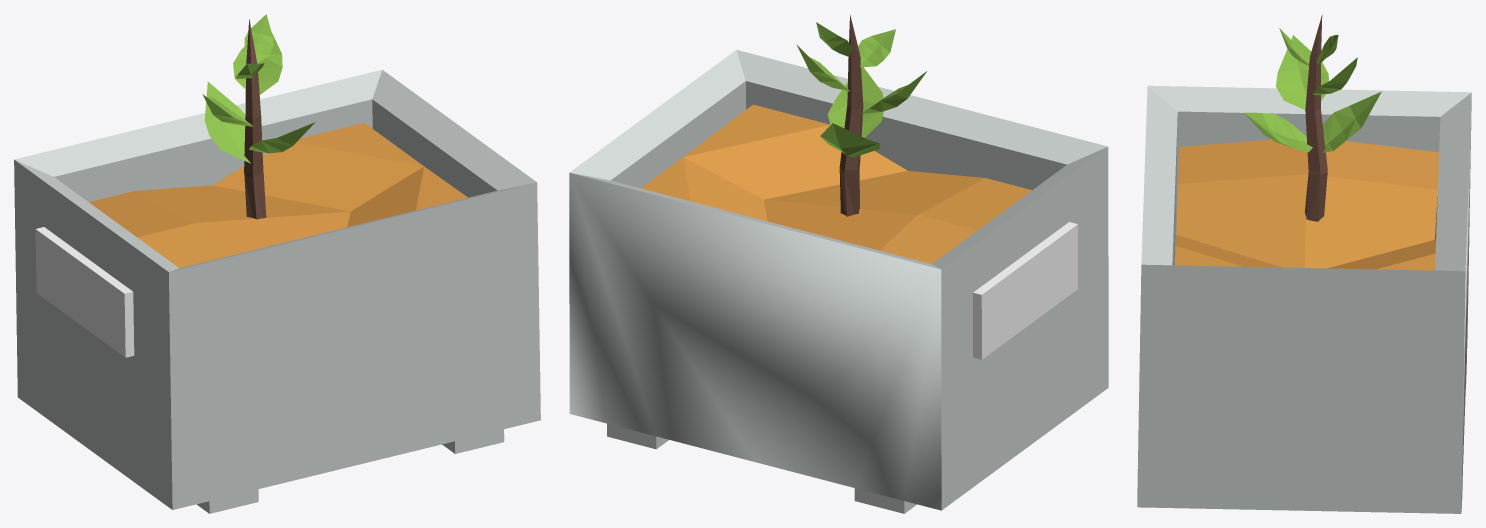
File: small-pot-plant.glb
3 views of the same model, side by side, from view 1: azimuth 30°, elevation 25°; view 2: azimuth 150°, elevation 25°; view 3: azimuth 270°, elevation 25° (orthographic). The views are drawn at different scales.
Parts seen in each view (by area): view 1: Small pot plant; view 2: Small pot plant; view 3: Small pot plant.
Boxes of the visible parts, x1,y1,x2,y2 form: Small pot plant: (14, 14, 540, 513); Small pot plant: (569, 14, 1108, 513); Small pot plant: (1137, 14, 1471, 513).
Bounding box in the file's own units: 0.2382 × 0.2437 × 0.1787.
